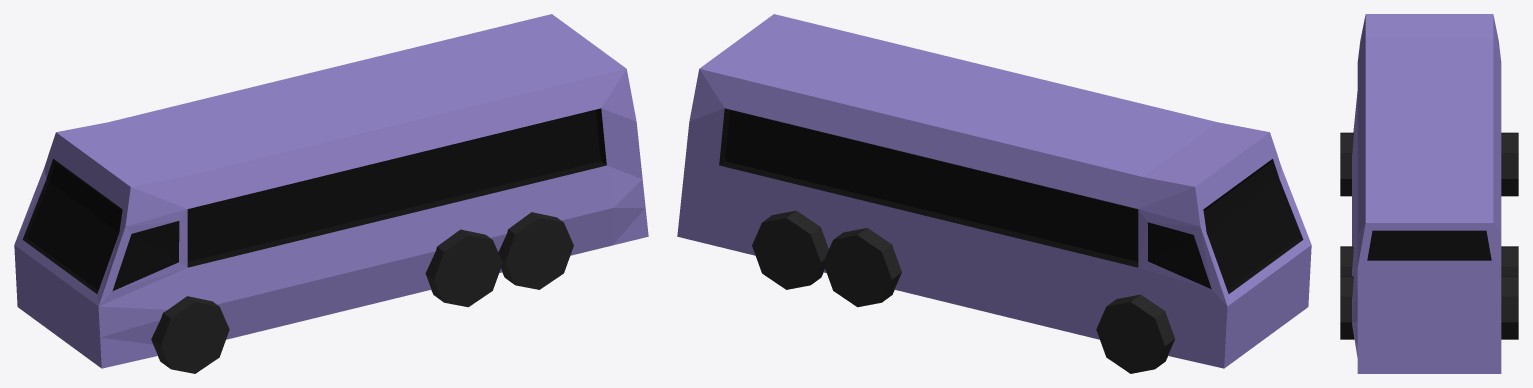
The model's file is cars_04.dae.
3 views of the same model, side by side, from view 1: azimuth 30°, elevation 25°; view 2: azimuth 150°, elevation 25°; view 3: azimuth 270°, elevation 25° (orthographic). The views are drawn at different scales.
Visible parts, largest first — view 1: Cube.006, Circle.003; view 2: Cube.006, Circle.003; view 3: Cube.006, Circle.003.
Part boxes in pixels (<box>): Cube.006: <box>14,14,648,368</box>; Circle.003: <box>151,212,573,373</box>; Cube.006: <box>677,14,1311,368</box>; Circle.003: <box>752,210,1174,373</box>; Cube.006: <box>1352,14,1501,373</box>; Circle.003: <box>1340,132,1518,339</box>.
Bounding box in the file's own units: 2.88 × 0.9483 × 0.9425.
